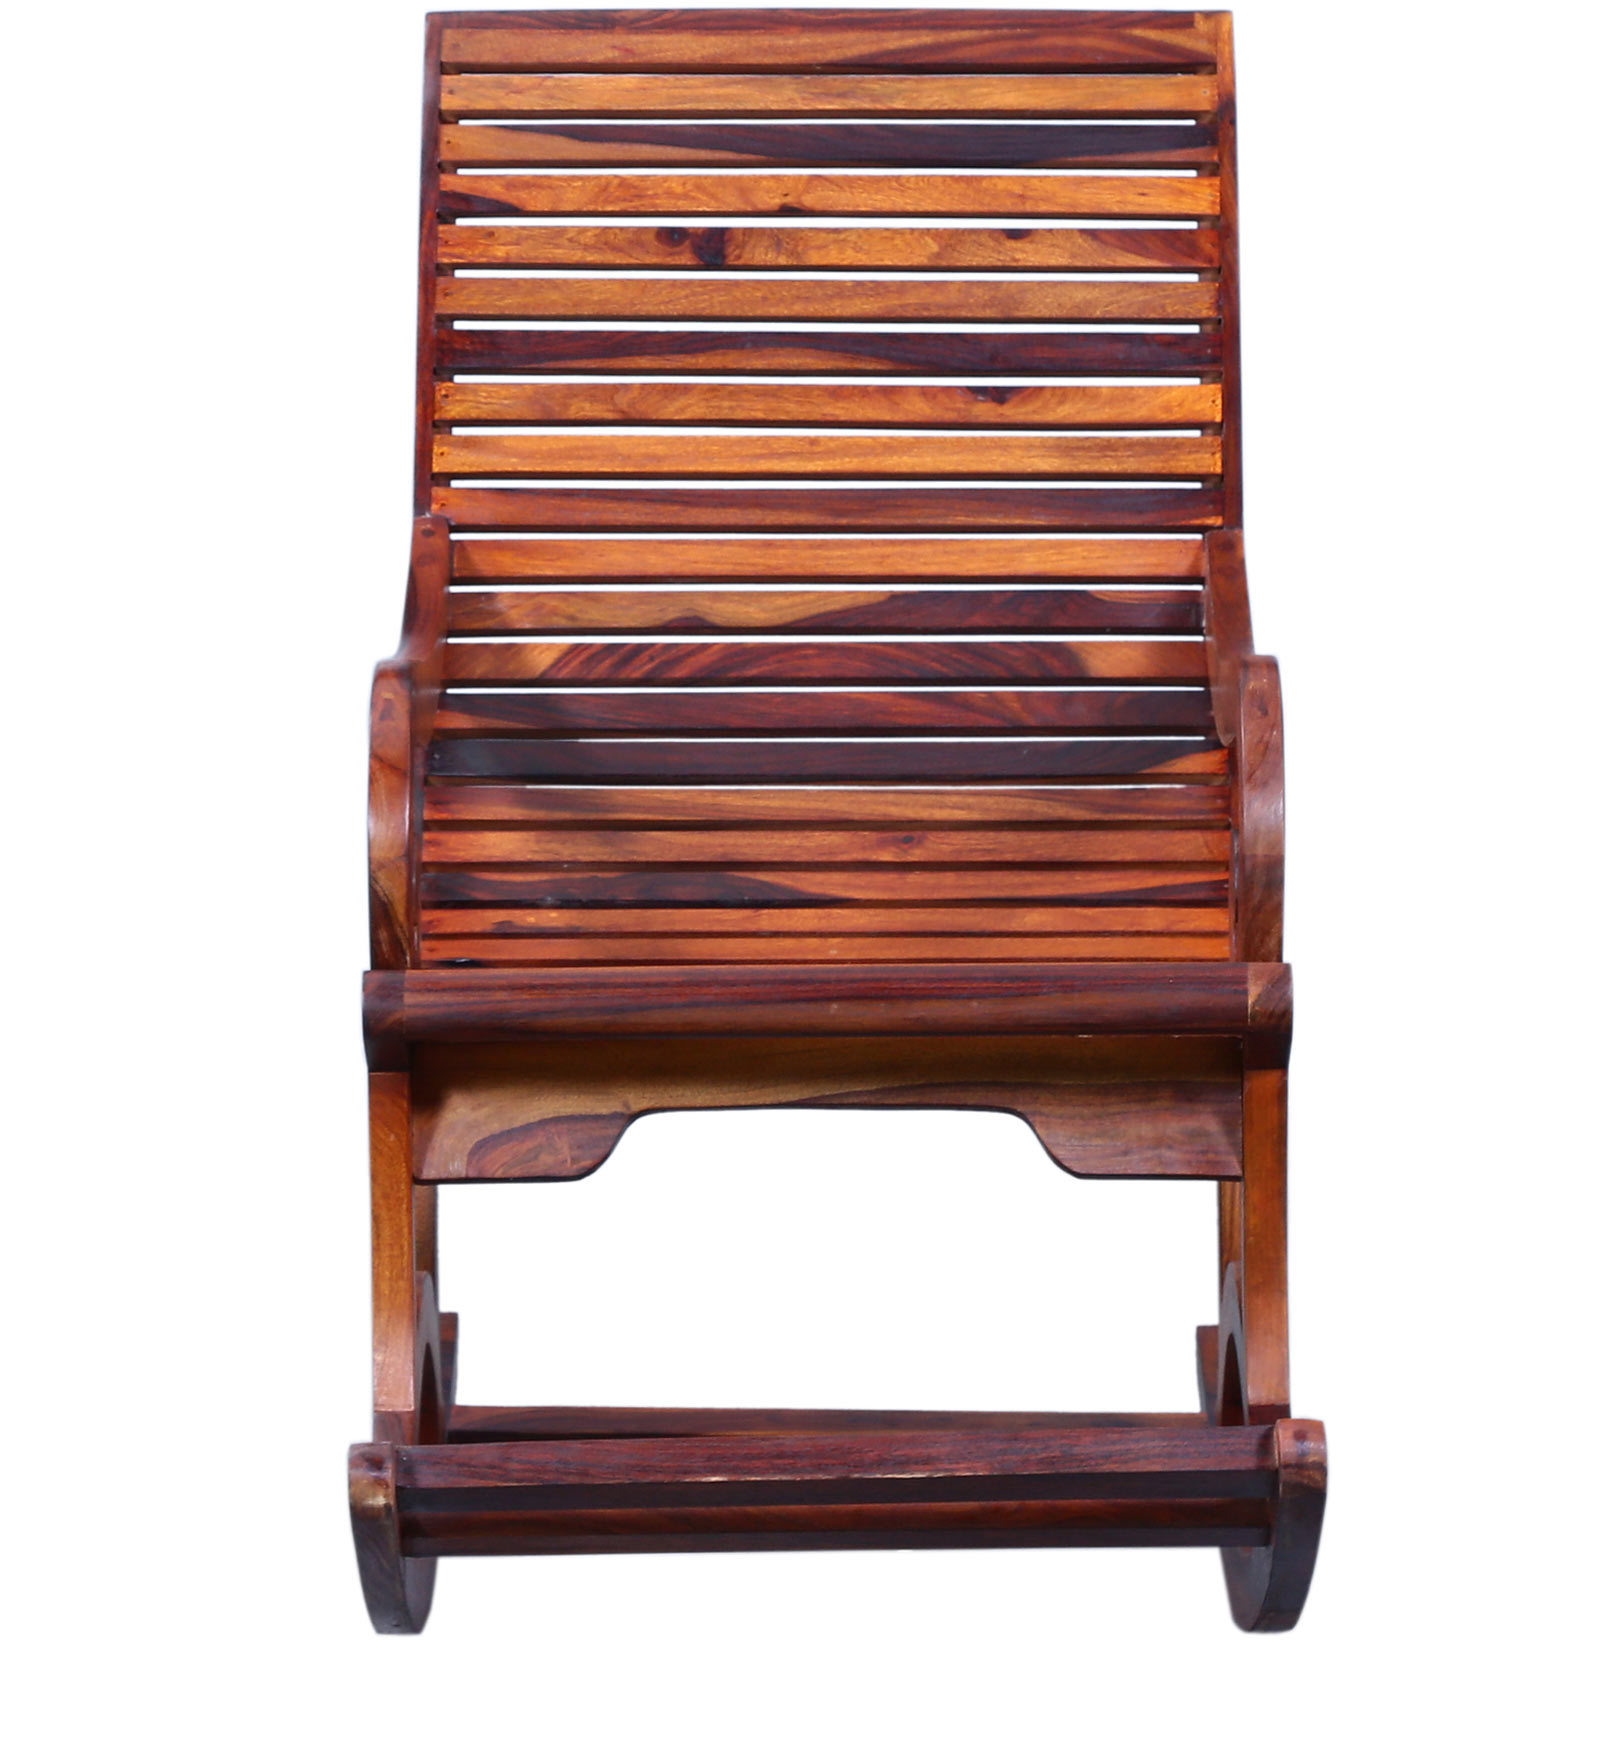Wellesley Rocking Chair in Honey Oak Finish by Amberville: (326, 11, 1421, 1654)
